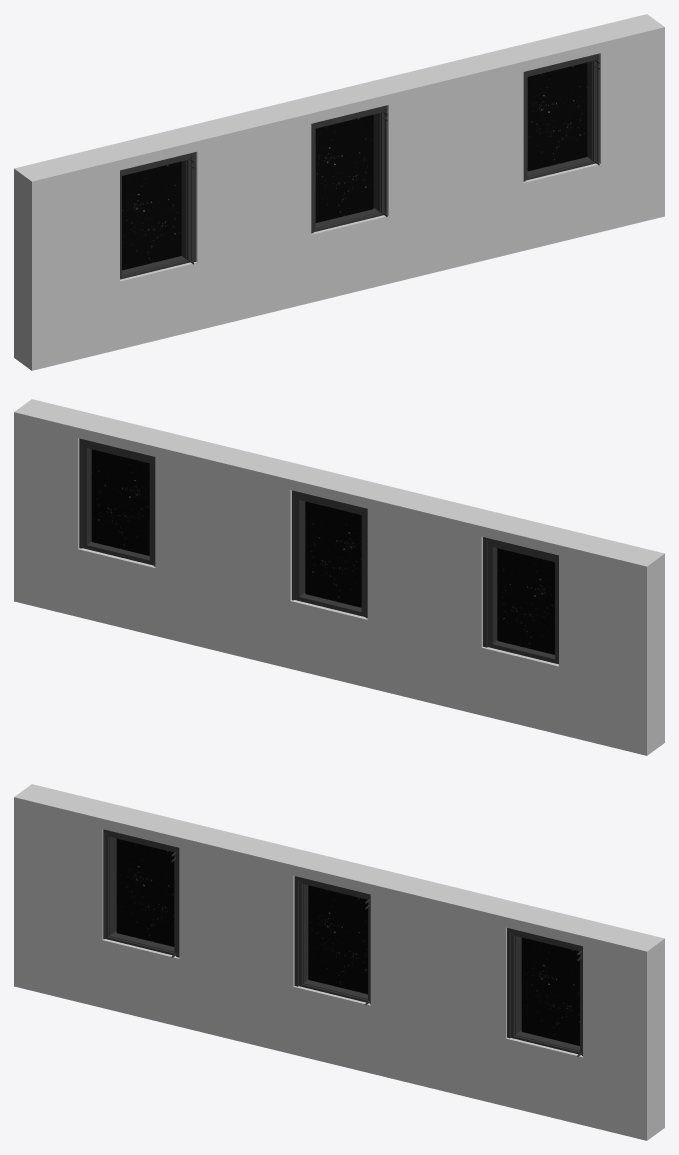
The model's file is muurraam.fbx.
3 renders of one model, top to bottom at view 1: azimuth 30°, elevation 25°; view 2: azimuth 150°, elevation 25°; view 3: azimuth 330°, elevation 25°, orthographic.
Visible parts, largest first — view 1: Cube, ezgif.com-webp-to-png.001, ezgif.com-webp-to-png.002, ezgif.com-webp-to-png, #WIN0003_Frame.002, #WIN0003_Frame.003, #WIN0003_Frame.001; view 2: Cube, ezgif.com-webp-to-png.001, ezgif.com-webp-to-png.002, ezgif.com-webp-to-png, #WIN0003_Frame.002, #WIN0003_Frame.003, #WIN0003_Frame.001; view 3: Cube, ezgif.com-webp-to-png, ezgif.com-webp-to-png.001, ezgif.com-webp-to-png.002, #WIN0003_Frame.001, #WIN0003_Frame.002, #WIN0003_Frame.003.
Part boxes in pixels (<box>): Cube: <box>14,14,664,370</box>; ezgif.com-webp-to-png.001: <box>527,62,587,171</box>; ezgif.com-webp-to-png.002: <box>122,161,181,270</box>; ezgif.com-webp-to-png: <box>315,114,373,222</box>; #WIN0003_Frame.002: <box>311,105,387,233</box>; #WIN0003_Frame.003: <box>523,53,599,181</box>; #WIN0003_Frame.001: <box>120,152,195,279</box>; Cube: <box>14,399,664,755</box>; ezgif.com-webp-to-png.001: <box>91,449,149,555</box>; ezgif.com-webp-to-png.002: <box>497,548,554,654</box>; ezgif.com-webp-to-png: <box>305,501,361,607</box>; #WIN0003_Frame.002: <box>292,490,367,618</box>; #WIN0003_Frame.003: <box>79,438,155,566</box>; #WIN0003_Frame.001: <box>483,537,558,664</box>; Cube: <box>14,784,664,1140</box>; ezgif.com-webp-to-png: <box>308,885,367,994</box>; ezgif.com-webp-to-png.001: <box>521,937,579,1045</box>; ezgif.com-webp-to-png.002: <box>116,838,174,946</box>; #WIN0003_Frame.001: <box>103,829,179,957</box>; #WIN0003_Frame.002: <box>294,876,370,1005</box>; #WIN0003_Frame.003: <box>507,928,582,1056</box>.
Bounding box in the file's own units: 4200 × 1200 × 231.
